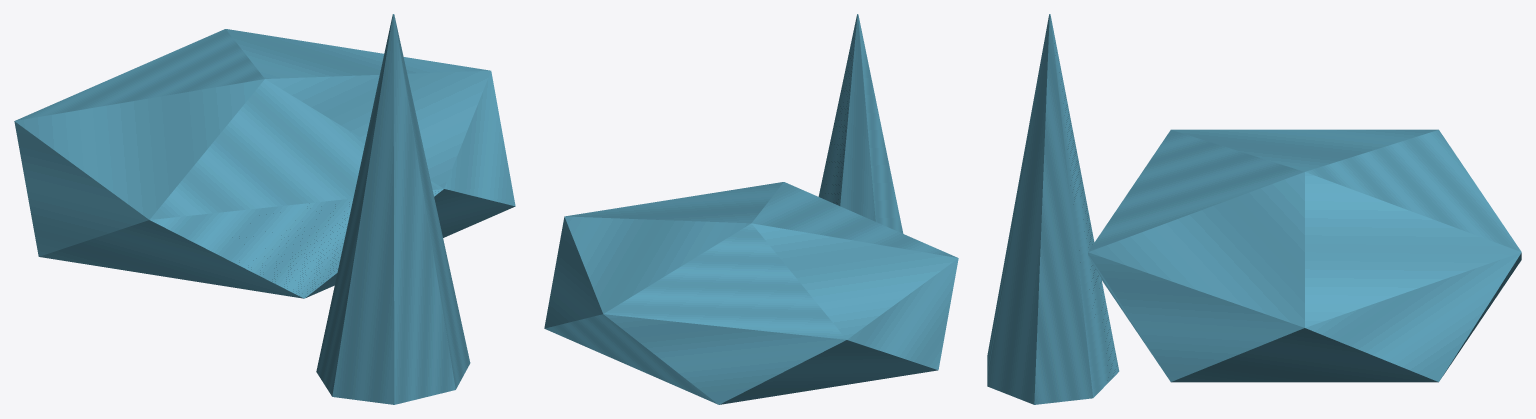
Rendered from storm_payload.glb.
The picture shows the model from 3 angles, left to right: view 1: azimuth 30°, elevation 25°; view 2: azimuth 150°, elevation 25°; view 3: azimuth 270°, elevation 25°; orthographic projection. The views are drawn at different scales.
Visible parts, largest first — view 1: gear_storm_payload; view 2: gear_storm_payload; view 3: gear_storm_payload.
Boxes of the visible parts, x1,y1,x2,y2 form: gear_storm_payload: [14, 14, 515, 404]; gear_storm_payload: [544, 14, 958, 404]; gear_storm_payload: [987, 14, 1521, 404].
Size of the model in its own units: 0.4472 by 0.34 by 0.4612.
Materials: 1 (1 with a texture image).
